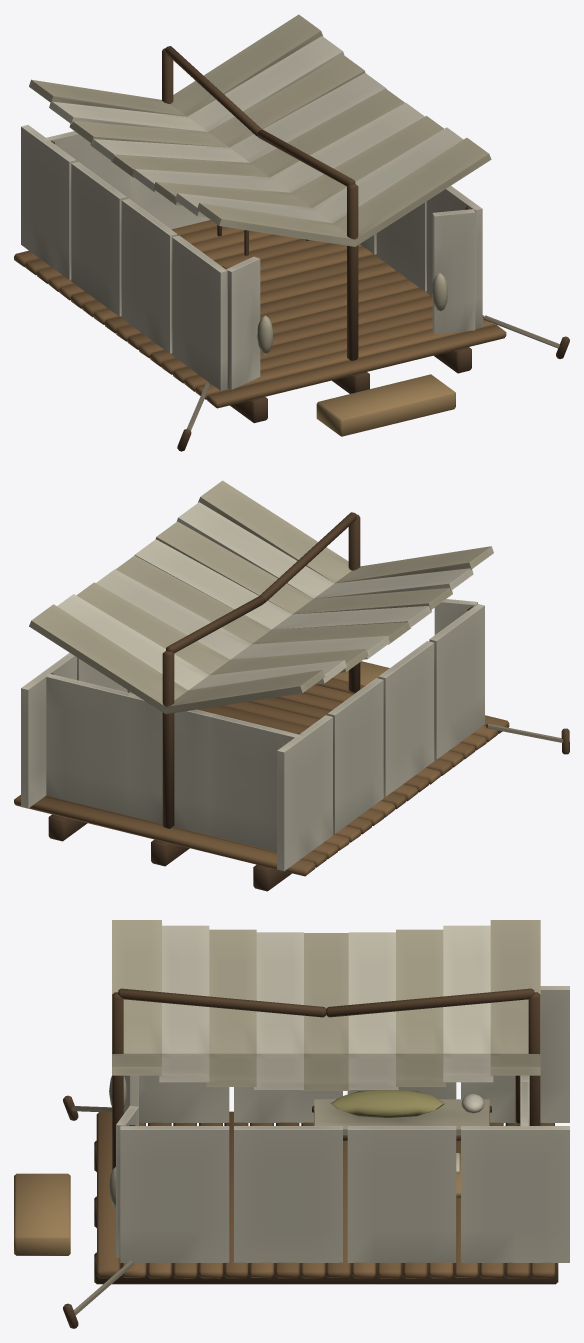
Rendered from survey_tent_a.glb.
3 renders of one model, top to bottom at view 1: azimuth 30°, elevation 25°; view 2: azimuth 150°, elevation 25°; view 3: azimuth 270°, elevation 25°, orthographic. The views are drawn at different scales.
Visible parts, largest first — view 1: Surface; view 2: Surface; view 3: Surface.
Part boxes in pixels (x1,y1,x2,y2): Surface: (14,14,569,451); Surface: (14,480,569,891); Surface: (14,920,569,1328).
Size of the model in its own units: 8.02 by 4.12 by 8.81.
